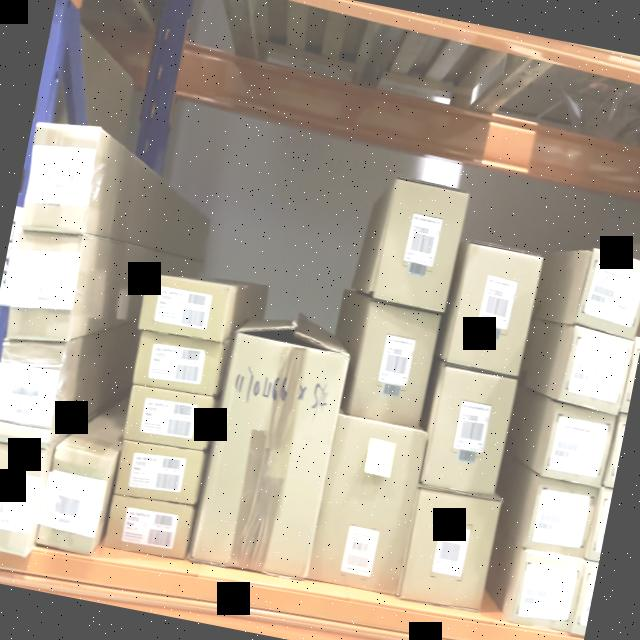box: (192, 325, 353, 579), (310, 418, 430, 596), (420, 369, 518, 502), (348, 298, 443, 434), (400, 491, 499, 612), (374, 180, 467, 308), (450, 244, 540, 376), (0, 227, 88, 346), (22, 128, 108, 237), (36, 444, 114, 552), (507, 545, 586, 640), (135, 266, 233, 342), (0, 339, 68, 447), (558, 328, 636, 413), (546, 403, 620, 489), (575, 244, 640, 338), (132, 331, 227, 394), (106, 492, 193, 559), (526, 482, 598, 560), (0, 442, 49, 556), (125, 386, 213, 449), (116, 446, 202, 504)
